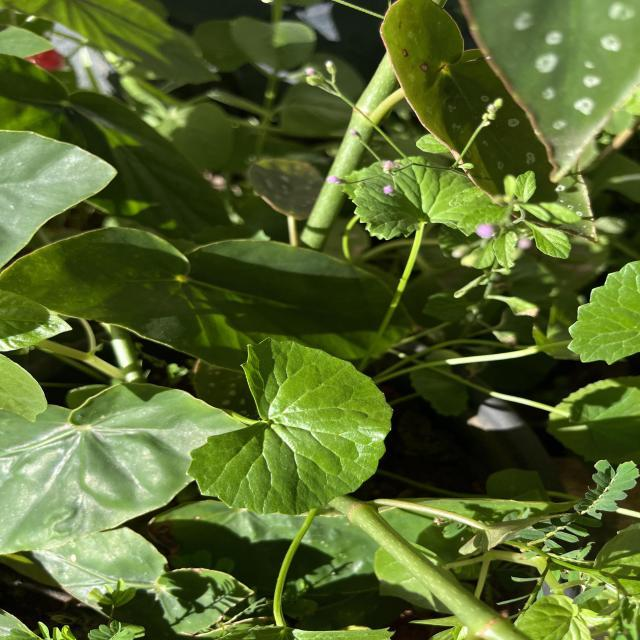Centella asiatica: (180, 333, 398, 519)
